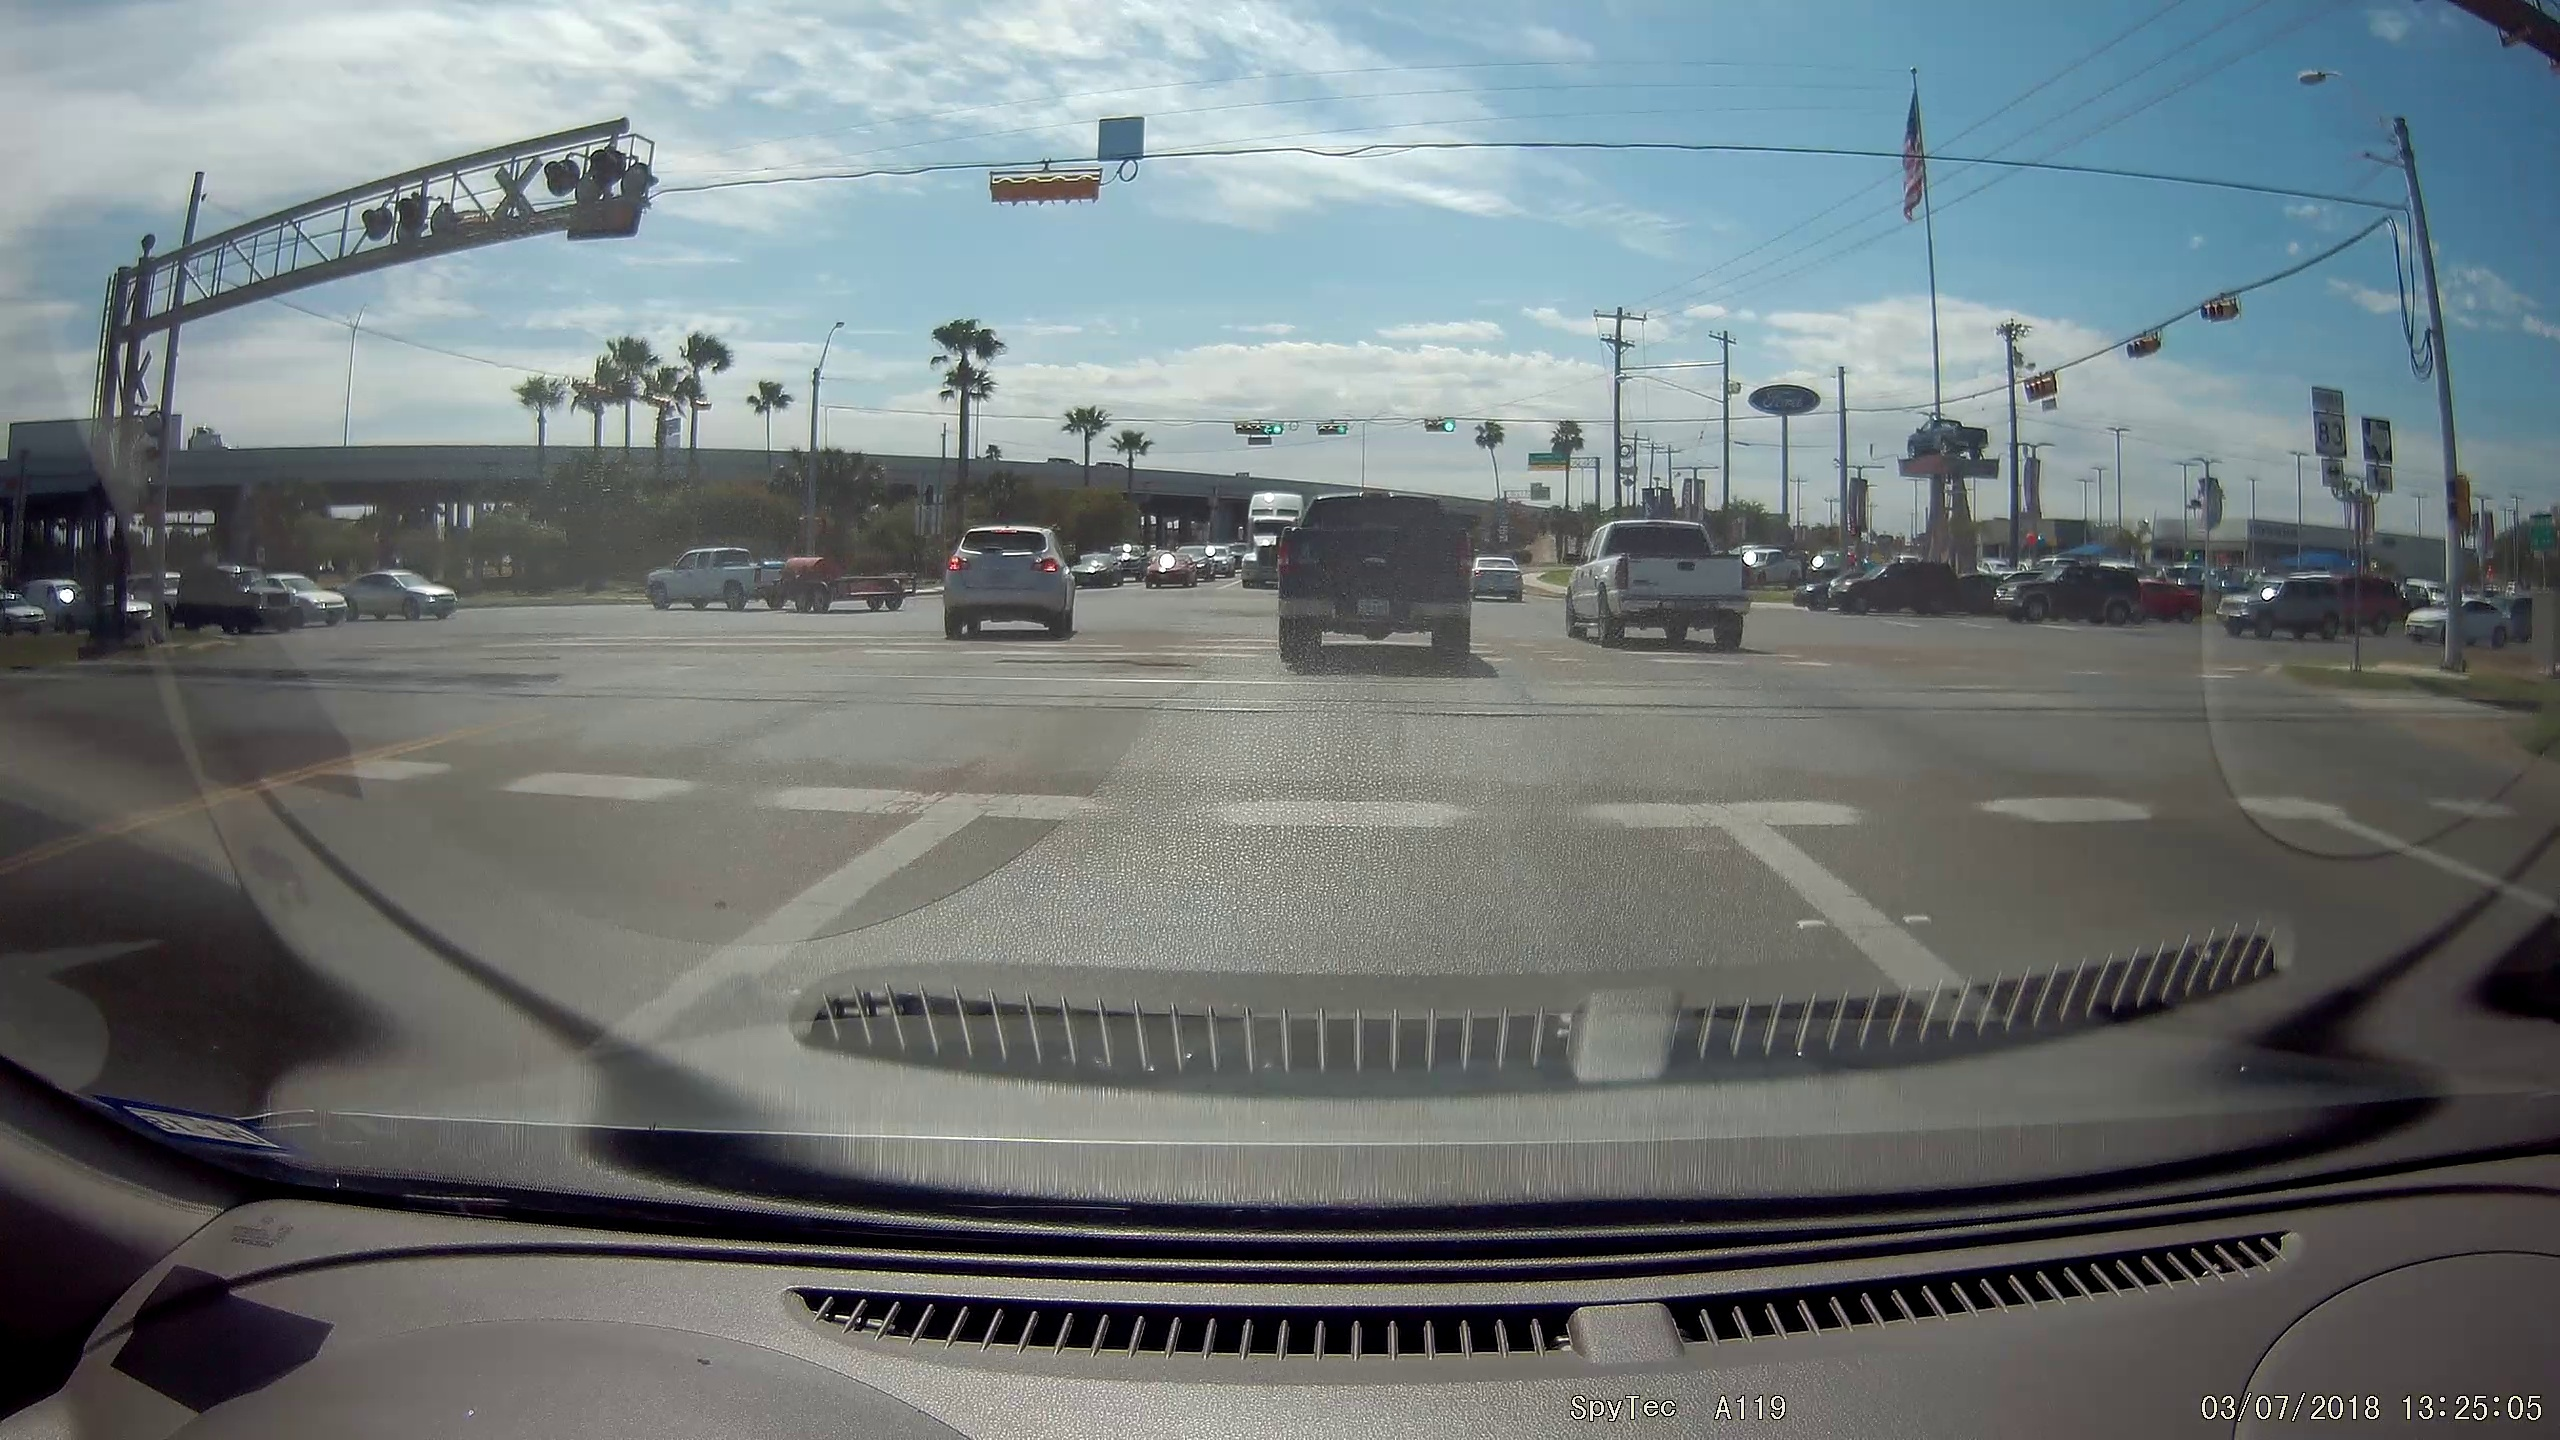blurredLine: (983, 768, 1742, 856), (1764, 774, 2535, 855), (394, 735, 965, 833)
